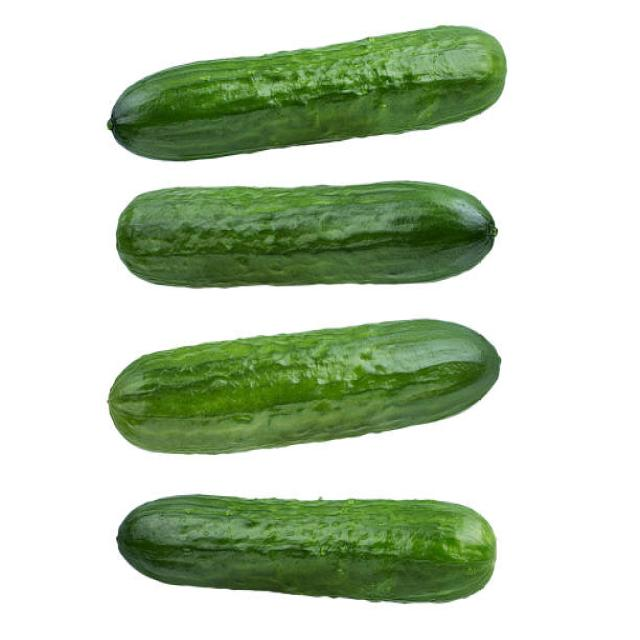cucumber: (110, 25, 506, 164), (110, 320, 500, 460), (115, 491, 499, 605), (116, 180, 497, 288)
